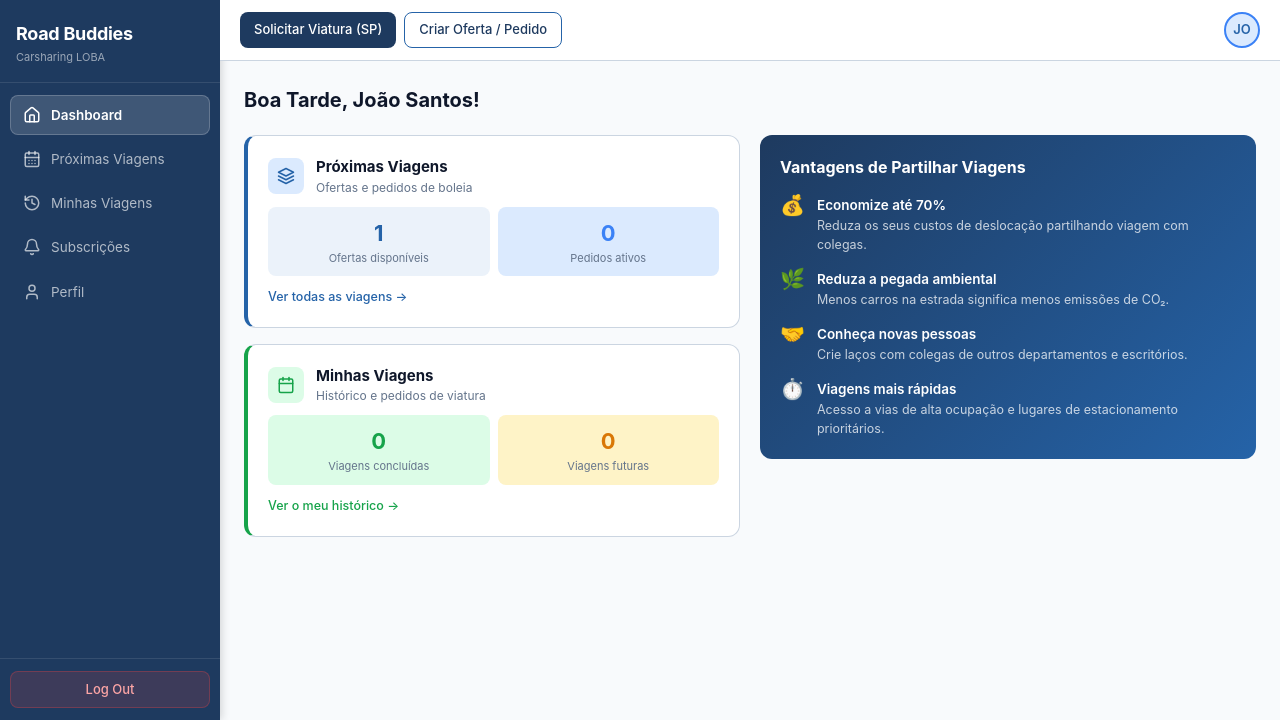
it: Gestão de Viagens › deve listar viagens disponíveis para reservar
The image size is (1280, 720).
expect the text "Road Buddies" is shown: met, box [16,20,133,47]
Navegar para Próximas Viagens
Click the button "Próximas Viagens" at (94,159), box [23,150,165,168]
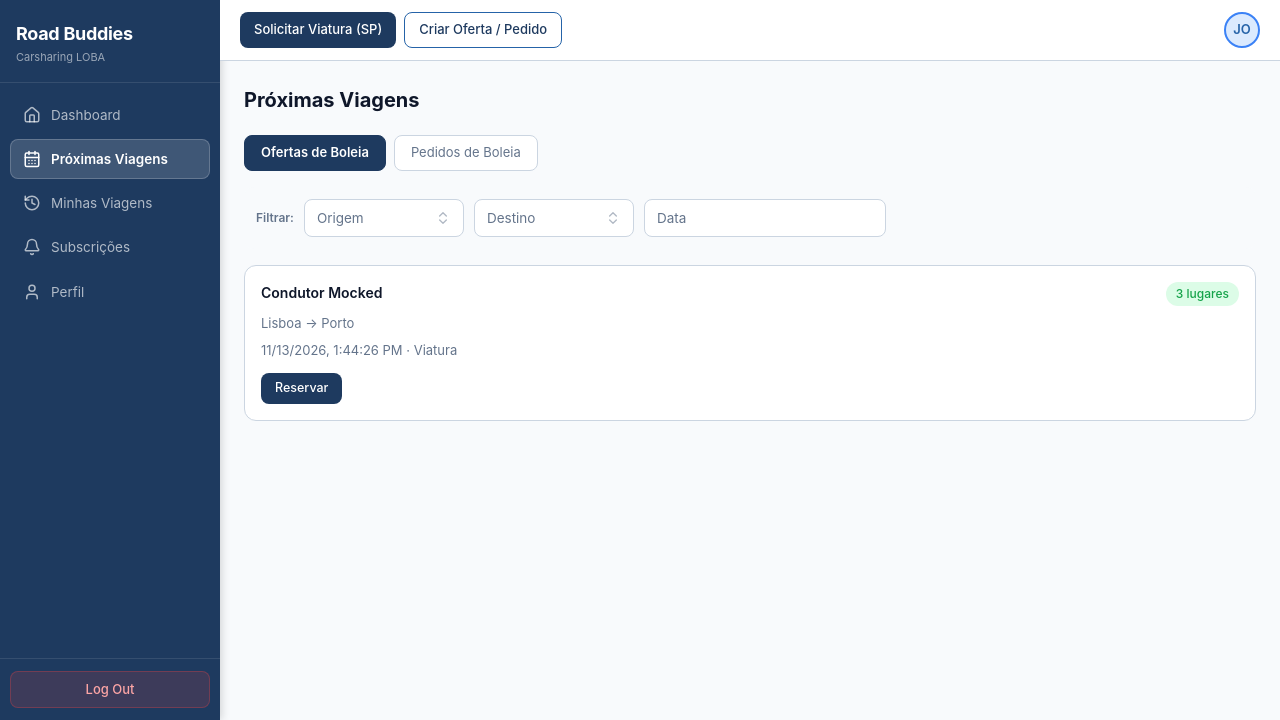
expect the text "Condutor Mocked" is shown: met, box [261,282,382,303]
expect the button "Reservar" is shown: met, box [261,373,342,404]
